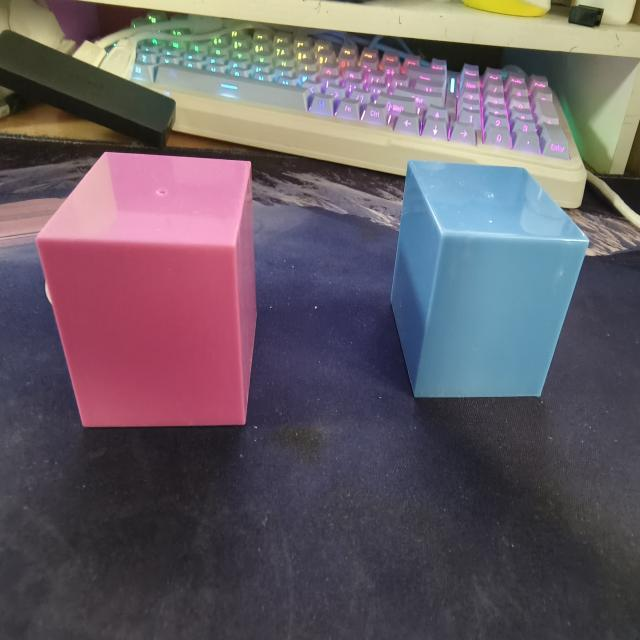blue: (385, 151, 591, 416)
pink: (31, 144, 270, 440)
